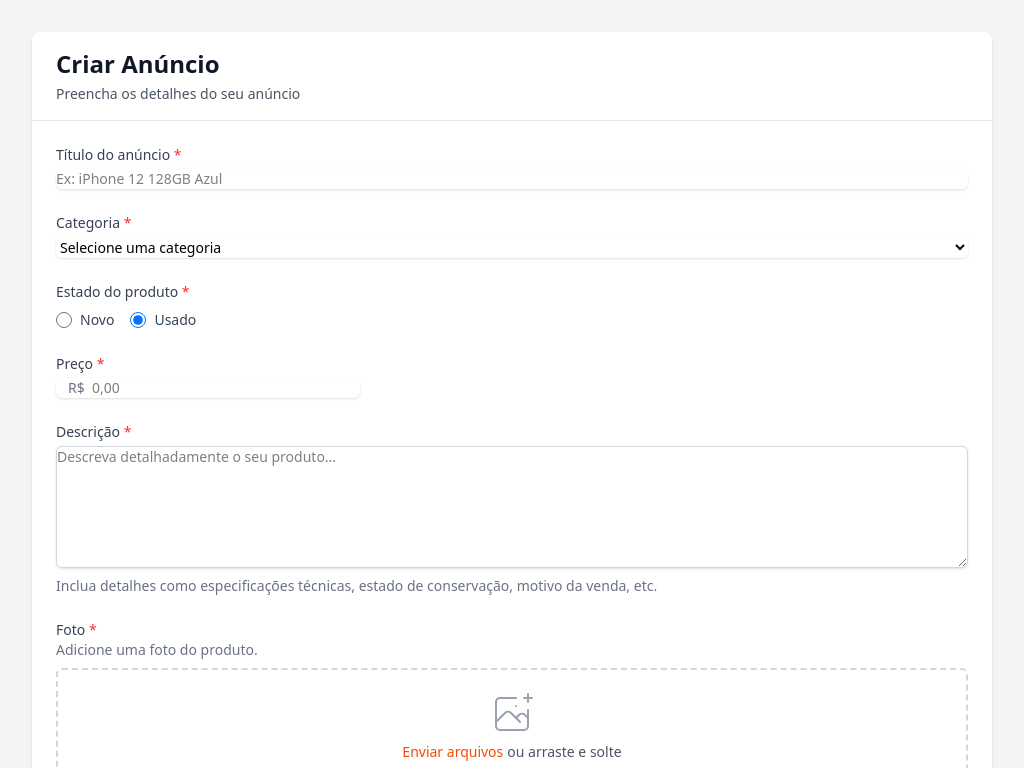
it: Anunciar Component › deve exibir características para diferentes categorias
Note: Testa Eletrodomésticos
Select "Eletrodomésticos" in the dropdown labelled "Categoria *" at (512, 248), box top-left (56, 237), bottom-right (968, 258)
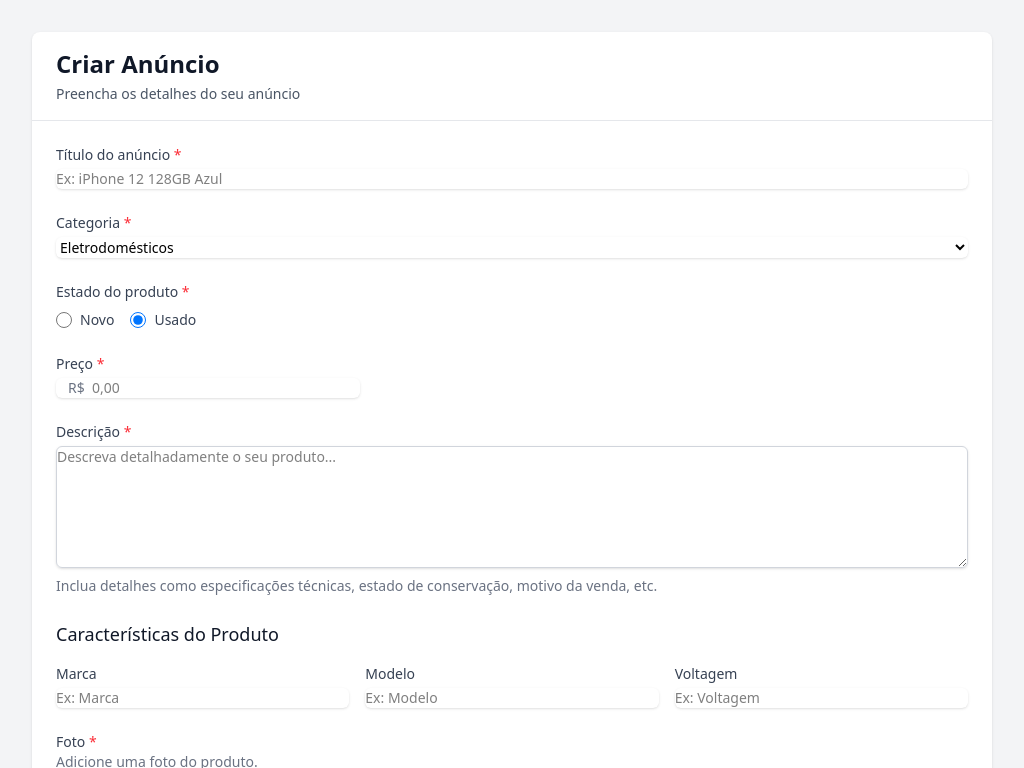
Check: the field labelled "Voltagem" is shown, box top-left (675, 688), bottom-right (968, 708)
Note: Testa Casa
Select "Casa, Decoração e Utensílios" in the dropdown labelled "Categoria *" at (512, 248), box top-left (56, 237), bottom-right (968, 258)
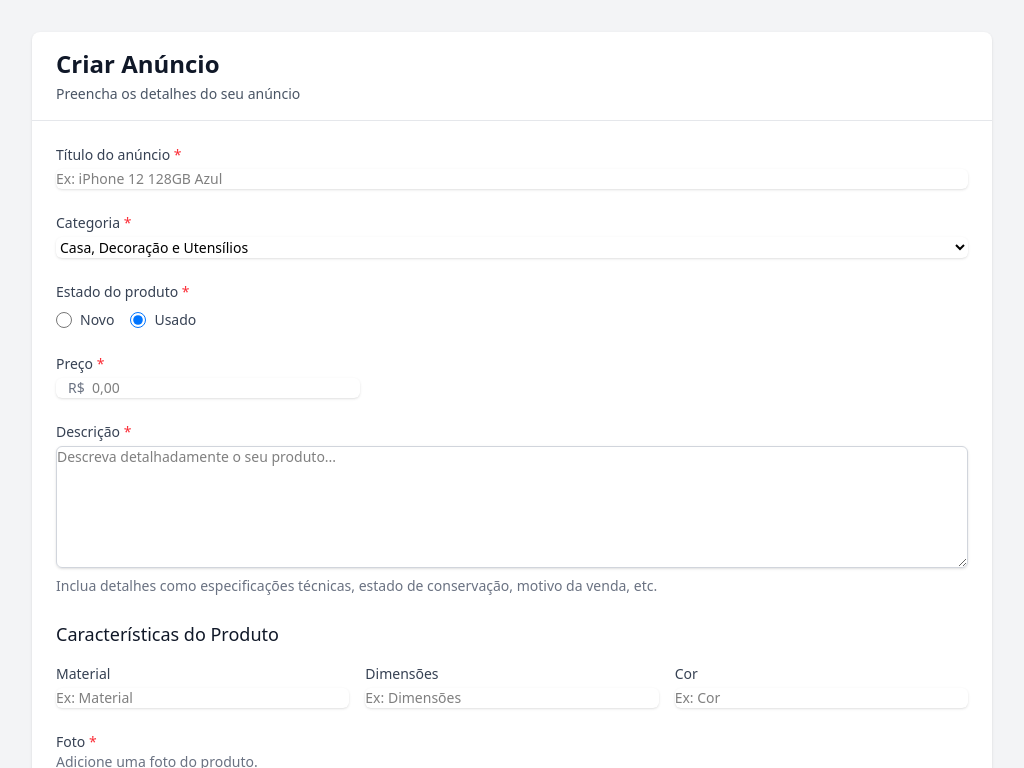
Check: the field labelled "Material" is shown, box top-left (56, 688), bottom-right (349, 708)
Check: the field labelled "Dimensões" is shown, box top-left (365, 688), bottom-right (659, 708)
Note: Testa Moda
Select "Moda" in the dropdown labelled "Categoria *" at (512, 248), box top-left (56, 237), bottom-right (968, 258)
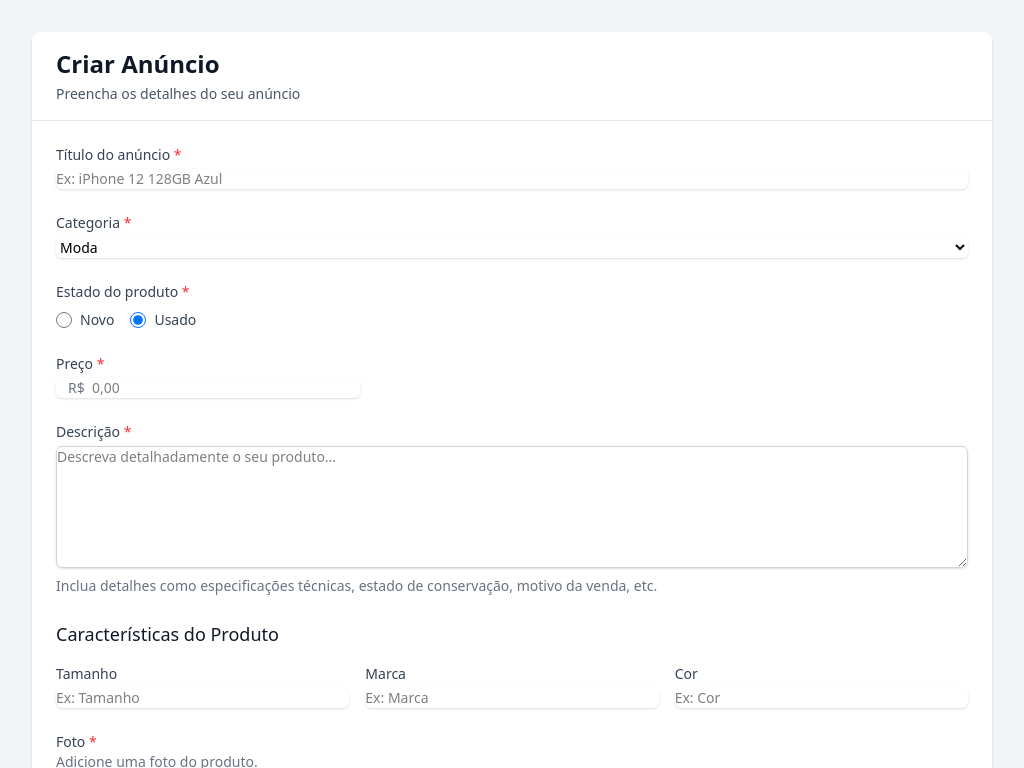
Check: the field labelled "Tamanho" is shown, box top-left (56, 688), bottom-right (349, 708)
